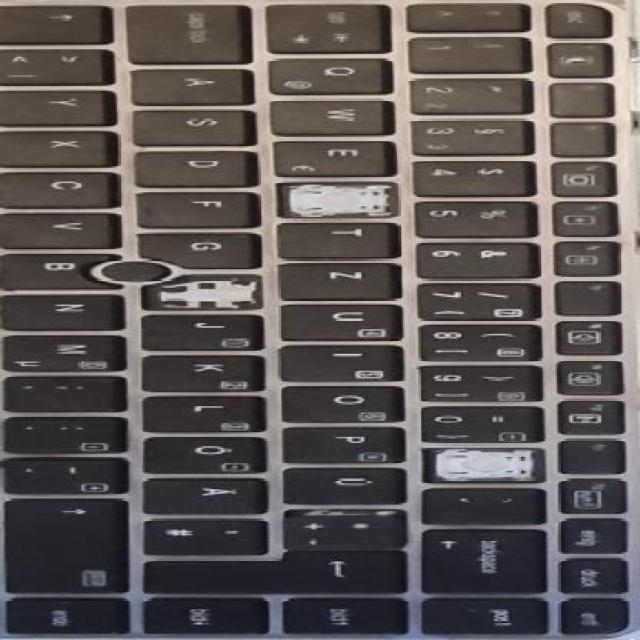Keyboard problems: (142, 275, 260, 309), (425, 449, 543, 482), (278, 185, 397, 217)
